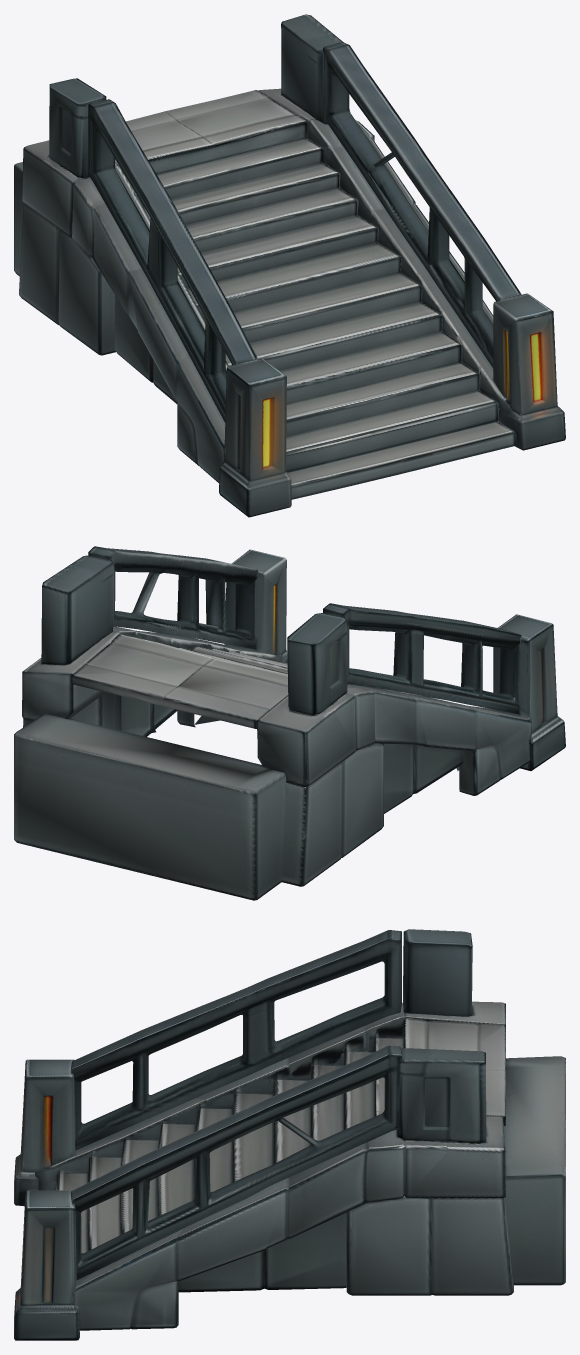
The model's file is Stairs.fbx.
3 renders of one model, top to bottom at view 1: azimuth 30°, elevation 25°; view 2: azimuth 150°, elevation 25°; view 3: azimuth 270°, elevation 25°, orthographic.
Visible parts, largest first — view 1: tripo_node_c0664d96; view 2: tripo_node_c0664d96; view 3: tripo_node_c0664d96.
Part boxes in pixels (bbox=[...]): tripo_node_c0664d96: bbox=[14, 14, 565, 517]; tripo_node_c0664d96: bbox=[14, 546, 565, 900]; tripo_node_c0664d96: bbox=[14, 929, 565, 1340].
Bounding box in the file's own units: 0.6724 × 0.5503 × 0.9995.
